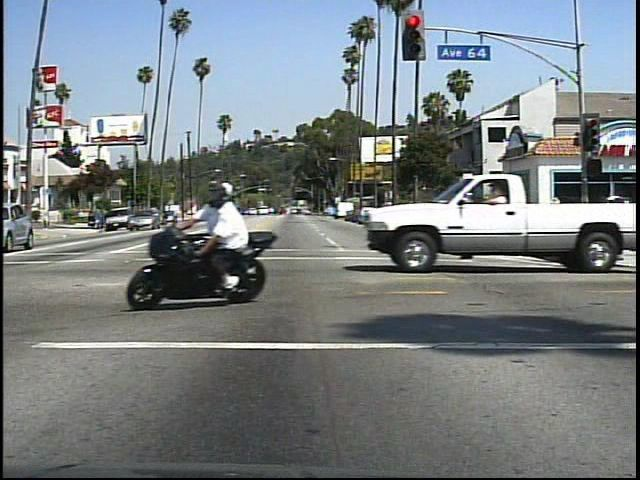person: (191, 177, 266, 298), (543, 192, 571, 245)
